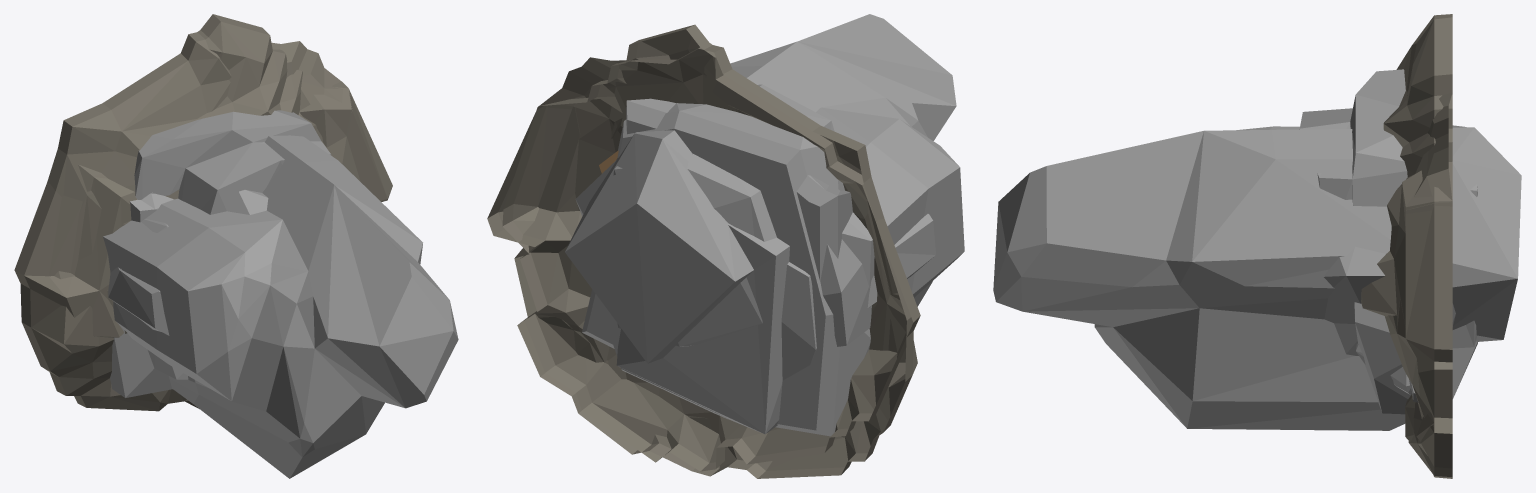
File: rocks.gltf
The picture shows the model from 3 angles, left to right: view 1: azimuth 30°, elevation 25°; view 2: azimuth 150°, elevation 25°; view 3: azimuth 270°, elevation 25°; orthographic projection. The views are drawn at different scales.
Visible parts, largest first — view 1: rock3.natural.light, debris2.light, debris1.light, rock5.natural.light, rock4.natural.light, rock7.natural.light; view 2: rock3.natural.light, debris1.light, debris2.light, rock5.natural.light, rock6.natural.light, rock7.natural.light, rock2.natural.light, rock4.natural.light; view 3: rock3.natural.light, debris1.light, rock5.natural.light, debris2.light, rock2.natural.light, rock6.natural.light.
Boxes of the visible parts, bbox=[...] form: rock3.natural.light: bbox=[103, 135, 458, 478]; debris2.light: bbox=[20, 32, 381, 411]; debris1.light: bbox=[14, 14, 392, 337]; rock5.natural.light: bbox=[110, 110, 331, 397]; rock4.natural.light: bbox=[108, 190, 268, 335]; rock7.natural.light: bbox=[130, 192, 173, 222]; rock3.natural.light: bbox=[565, 14, 964, 434]; debris1.light: bbox=[487, 24, 920, 471]; debris2.light: bbox=[502, 45, 917, 478]; rock5.natural.light: bbox=[597, 84, 870, 436]; rock6.natural.light: bbox=[613, 154, 816, 380]; rock7.natural.light: bbox=[582, 98, 852, 348]; rock2.natural.light: bbox=[575, 160, 871, 346]; rock4.natural.light: bbox=[867, 214, 935, 307]; rock3.natural.light: bbox=[993, 126, 1521, 430]; debris1.light: bbox=[1361, 17, 1452, 442]; rock5.natural.light: bbox=[1299, 69, 1411, 414]; debris2.light: bbox=[1385, 14, 1452, 478]; rock2.natural.light: bbox=[1324, 247, 1455, 355]; rock6.natural.light: bbox=[1452, 125, 1477, 348].
Size of the model in its own units: 5.49 by 5.44 by 5.94.
Materials: 1 (1 with a texture image).
